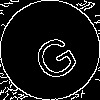G: (25, 25, 82, 85)
